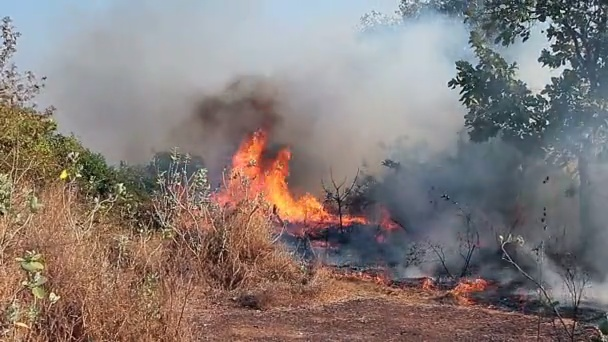fire: (224, 136, 329, 223)
